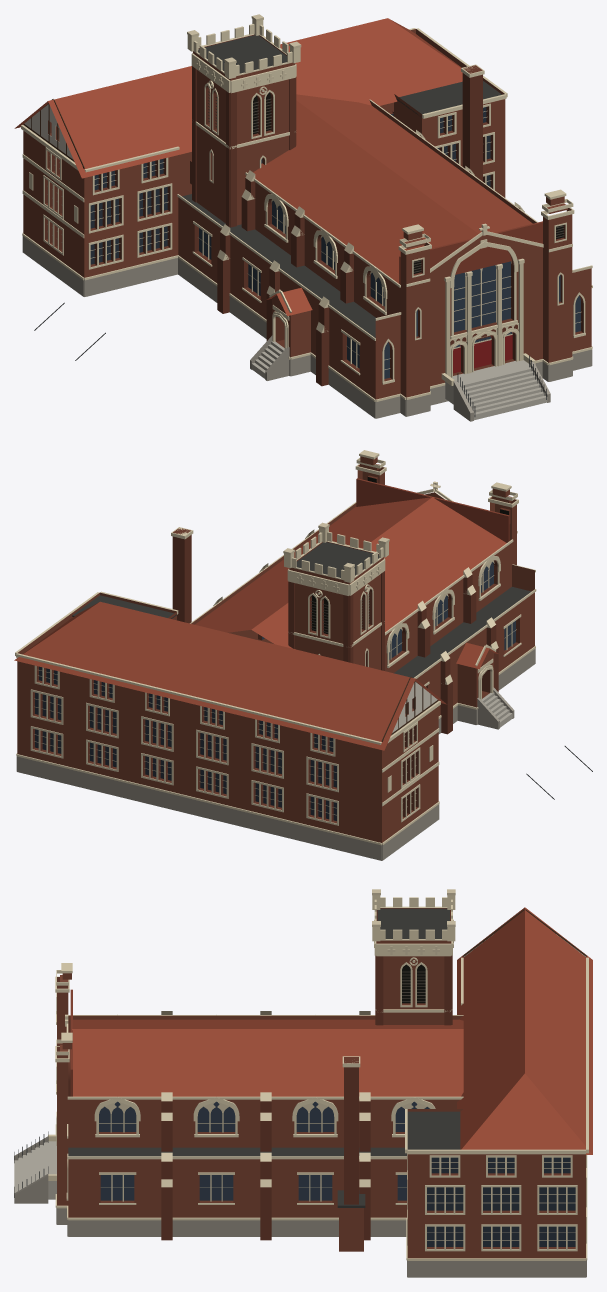
The model's file is ch-winfield-1961.glb.
3 renders of one model, top to bottom at view 1: azimuth 30°, elevation 25°; view 2: azimuth 150°, elevation 25°; view 3: azimuth 270°, elevation 25°, orthographic. The views are drawn at different scales.
Parts seen in each view (by area): view 1: ch_brick, ch_tile, ch_trim, ch_brick2, ch_base, ch_roof, ch_stain, ch_conc, ch_trc, ch_glass, ch_tile2, ch_stucco (+2 smaller); view 2: ch_tile, ch_brick, ch_trim, ch_brick2, ch_base, ch_glass, ch_roof, ch_tile2, ch_trc, ch_stain, ch_stucco; view 3: ch_tile, ch_brick, ch_trim, ch_base, ch_brick2, ch_roof, ch_stain, ch_glass, ch_trc, ch_conc, ch_shadow.
Part boxes in pixels (box(x1,y1,x2,y2)): ch_brick: box(23, 29, 591, 399); ch_tile: box(14, 18, 532, 315); ch_trim: box(21, 19, 592, 401); ch_brick2: box(45, 65, 583, 386); ch_base: box(22, 236, 592, 421); ch_roof: box(182, 35, 501, 337); ch_stain: box(199, 159, 580, 378); ch_conc: box(251, 341, 547, 420); ch_trc: box(47, 14, 581, 376); ch_glass: box(90, 107, 490, 264); ch_tile2: box(399, 221, 542, 284); ch_stucco: box(24, 104, 73, 159); ch_tile: box(14, 496, 506, 750); ch_brick: box(17, 456, 534, 842); ch_trim: box(15, 450, 536, 845); ch_brick2: box(32, 475, 519, 823); ch_base: box(16, 648, 535, 860); ch_glass: box(35, 666, 336, 820); ch_roof: box(72, 542, 531, 677); ch_tile2: box(356, 478, 509, 542); ch_trc: box(34, 522, 516, 815); ch_stain: box(262, 562, 515, 659); ch_stucco: box(392, 682, 437, 732); ch_tile: box(72, 907, 592, 1154); ch_brick: box(57, 908, 585, 1258); ch_trim: box(48, 895, 588, 1260); ch_base: box(14, 1136, 586, 1277); ch_brick2: box(68, 955, 575, 1248); ch_roof: box(68, 908, 460, 1207); ch_stain: box(99, 1101, 429, 1200); ch_glass: box(427, 1157, 575, 1246); ch_trc: box(99, 889, 575, 1240); ch_conc: box(14, 1141, 56, 1199); ch_shadow: box(402, 964, 425, 1003).
Size of the model in its own units: 44.72 by 21.6 by 46.39.
